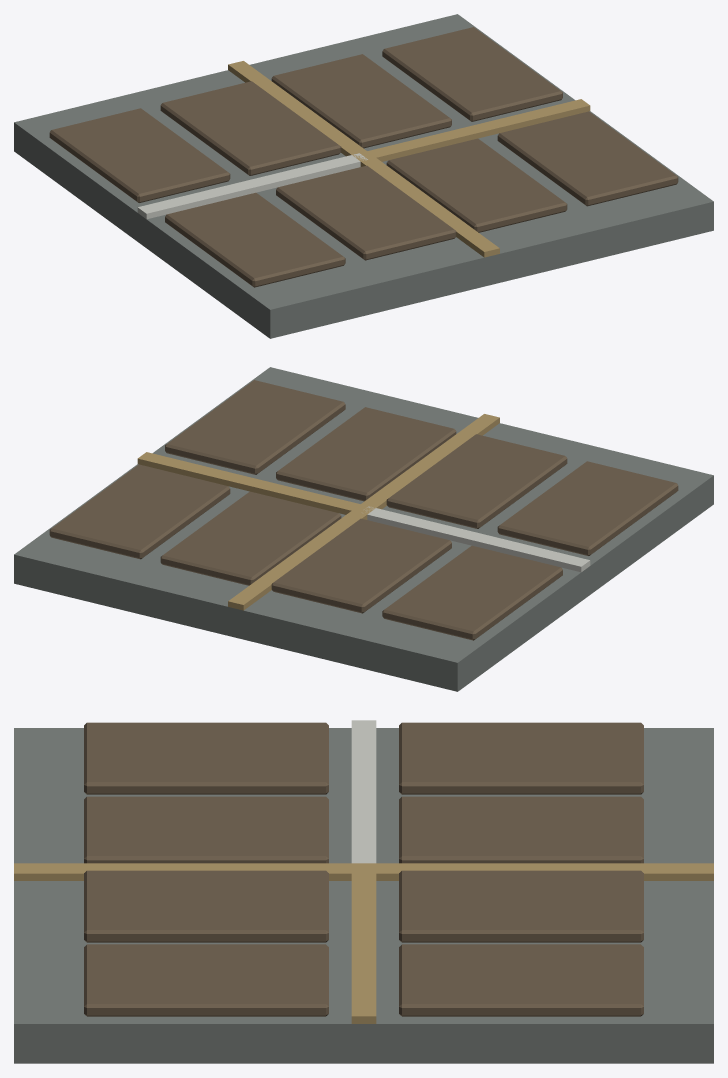
Rendered from terrain-cobble-cross.lod0.glb.
3 renders of one model, top to bottom at view 1: azimuth 30°, elevation 25°; view 2: azimuth 150°, elevation 25°; view 3: azimuth 270°, elevation 25°, orthographic. The views are drawn at different scales.
Parts seen in each view (by area): view 1: terrain-cobble-cross__body; view 2: terrain-cobble-cross__body; view 3: terrain-cobble-cross__body.
Part boxes in pixels (left/top/right/bottom): terrain-cobble-cross__body: left=14, top=14, right=713, bottom=338; terrain-cobble-cross__body: left=14, top=367, right=713, bottom=691; terrain-cobble-cross__body: left=14, top=720, right=713, bottom=1063.
Size of the model in its own units: 2 by 0.165 by 2.
